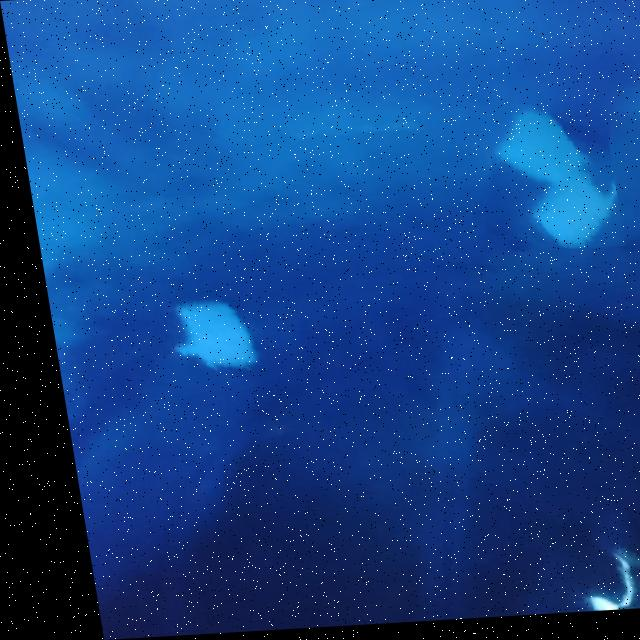litter: (467, 106, 616, 258), (136, 295, 264, 383)
